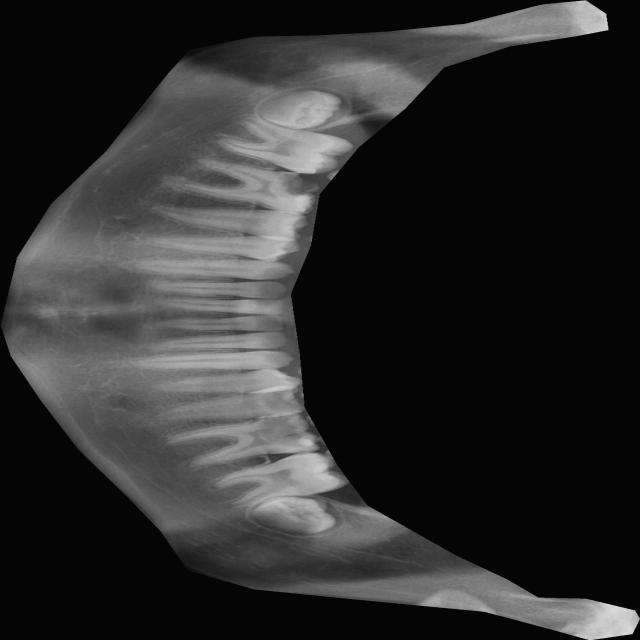mandibula: (0, 0, 639, 640)
